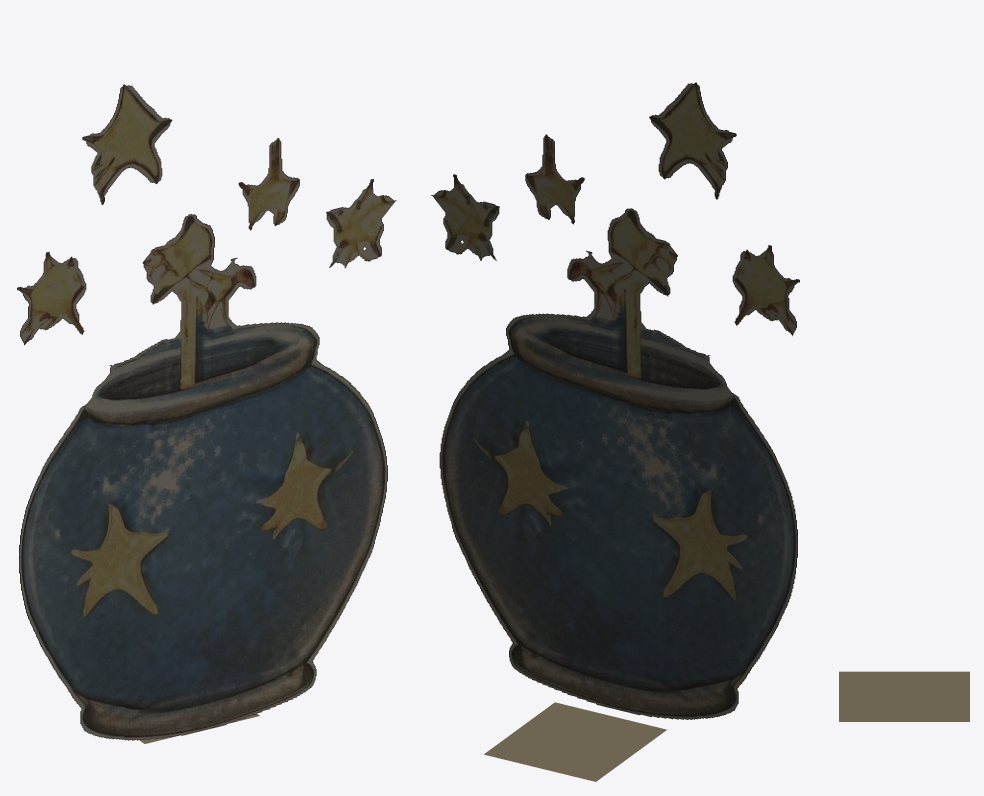
Rendered from toad-standee-star-jar-night.glb.
3 views of the same model, side by side, from view 1: azimuth 30°, elevation 25°; view 2: azimuth 150°, elevation 25°; view 3: azimuth 270°, elevation 25° (orthographic). The views are drawn at different scales.
Visible parts, largest first — view 1: star-jar; view 2: star-jar; view 3: star-jar.
Boxes of the visible parts, left/top/right/bottom form: star-jar: left=17, top=84, right=396, bottom=743; star-jar: left=431, top=82, right=799, bottom=781; star-jar: left=839, top=671, right=969, bottom=721.
Bounding box in the file's own units: 0.1 × 0.1669 × 0.035.
Materials: 1 (1 with a texture image).
